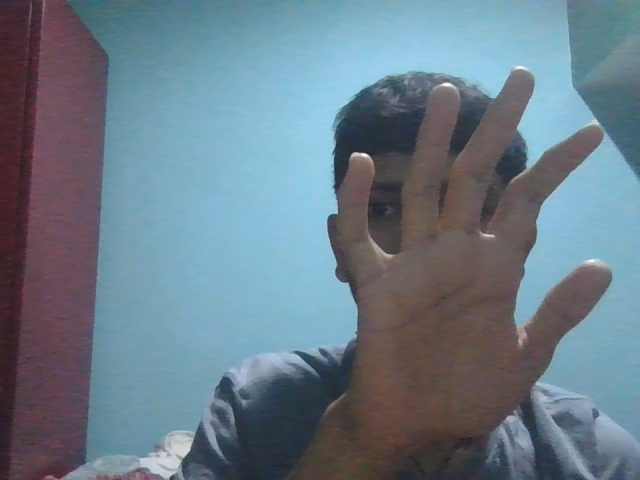hello: (326, 58, 624, 453)
